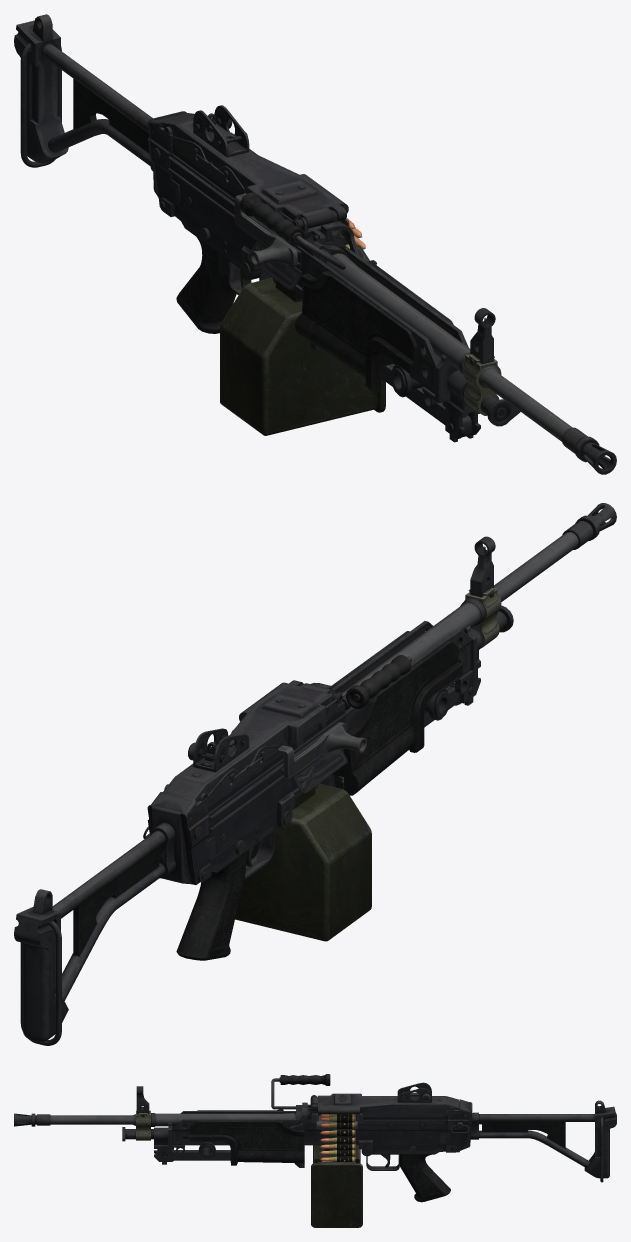
The picture shows the model from 3 angles, top to bottom: view 1: azimuth 30°, elevation 25°; view 2: azimuth 150°, elevation 25°; view 3: azimuth 270°, elevation 25°; orthographic projection. The views are drawn at different scales.
Parts seen in each view (by area): view 1: base_minimi_0, mag_minimi_0, cover_minimi_0, handle_minimi_0, loader_minimi_0, loaderlid_minimi_0, ejector_minimi_0; view 2: base_minimi_0, mag_minimi_0, cover_minimi_0, loader_minimi_0, handle_minimi_0, ejector_minimi_0, loaderlid_minimi_0; view 3: base_minimi_0, mag_minimi_0, cover_minimi_0, handle_minimi_0.
Boxes of the visible parts, left/top/right/bottom form: base_minimi_0: left=14, top=14, right=616, bottom=474; mag_minimi_0: left=220, top=278, right=385, bottom=435; cover_minimi_0: left=162, top=105, right=348, bottom=228; handle_minimi_0: left=240, top=192, right=345, bottom=269; loader_minimi_0: left=234, top=193, right=297, bottom=267; loaderlid_minimi_0: left=172, top=136, right=244, bottom=194; ejector_minimi_0: left=247, top=242, right=301, bottom=290; base_minimi_0: left=14, top=503, right=616, bottom=1045; mag_minimi_0: left=235, top=783, right=371, bottom=941; cover_minimi_0: left=163, top=680, right=341, bottom=802; loader_minimi_0: left=278, top=722, right=366, bottom=778; handle_minimi_0: left=346, top=655, right=411, bottom=708; ejector_minimi_0: left=293, top=749, right=347, bottom=793; loaderlid_minimi_0: left=208, top=745, right=278, bottom=803; base_minimi_0: left=14, top=1086, right=616, bottom=1202; mag_minimi_0: left=311, top=1145, right=362, bottom=1227; cover_minimi_0: left=310, top=1082, right=459, bottom=1117; handle_minimi_0: left=271, top=1074, right=330, bottom=1109.
Bounding box in the file's own units: 0.1303 × 0.2338 × 1.01.
1 material, 1 textured.
